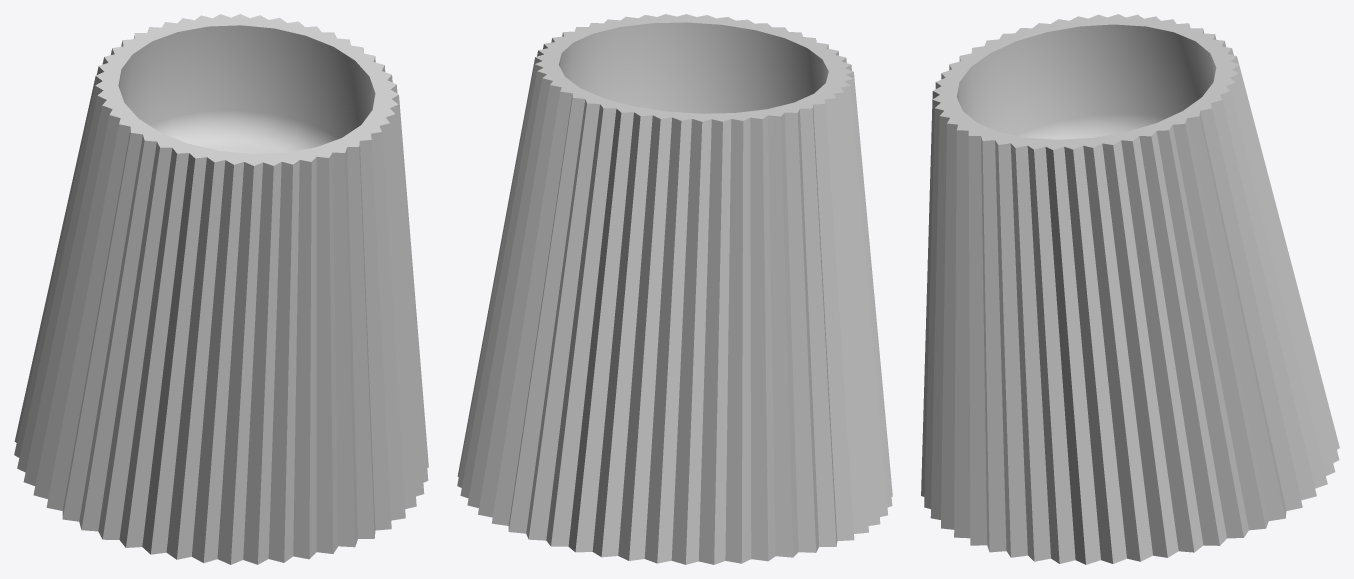
Rendered from toothpasteLid.glb.
The picture shows the model from 3 angles, left to right: view 1: azimuth 30°, elevation 25°; view 2: azimuth 150°, elevation 25°; view 3: azimuth 270°, elevation 25°; orthographic projection. The views are drawn at different scales.
Visible parts, largest first — view 1: Toothpaste_Lid; view 2: Toothpaste_Lid; view 3: Toothpaste_Lid.
Boxes of the visible parts, x1,y1,x2,y2 form: Toothpaste_Lid: (14,14,428,564); Toothpaste_Lid: (457,14,892,564); Toothpaste_Lid: (921,14,1339,564).
Bounding box in the file's own units: 0.0167 × 0.0186 × 0.0166.
1 material, 1 textured.
